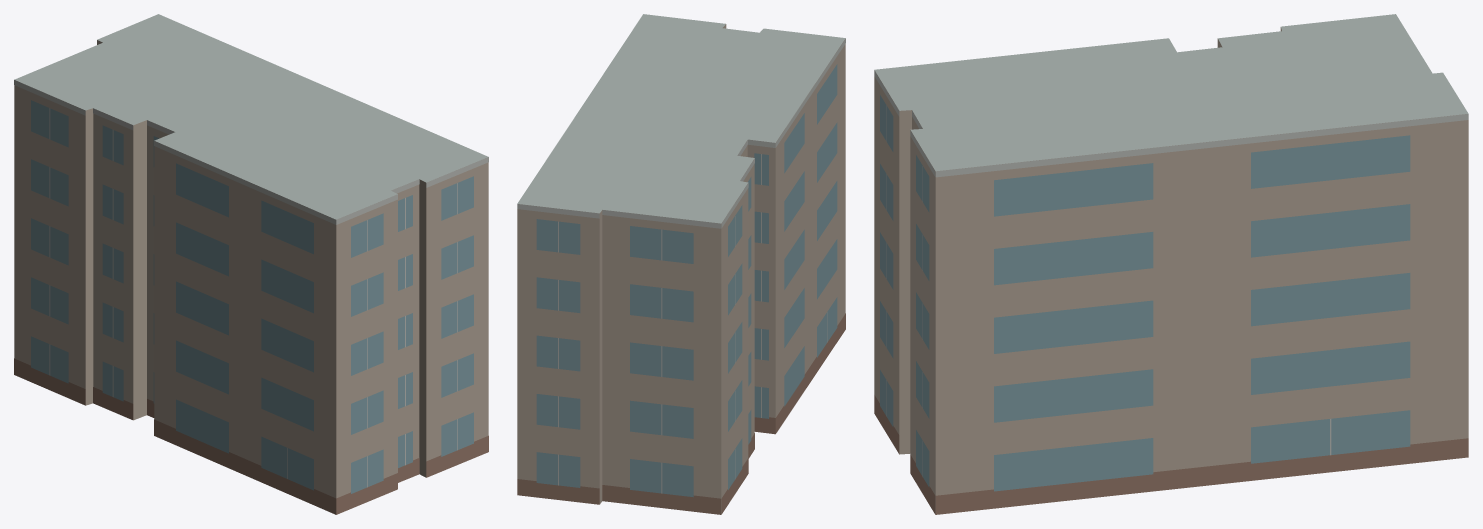
The model's file is survey-upis-32837103.glb.
The picture shows the model from 3 angles, left to right: view 1: azimuth 30°, elevation 25°; view 2: azimuth 150°, elevation 25°; view 3: azimuth 270°, elevation 25°; orthographic projection. The views are drawn at different scales.
Parts seen in each view (by area): view 1: survey-upis-32837103.tmp; view 2: survey-upis-32837103.tmp; view 3: survey-upis-32837103.tmp.
Part boxes in pixels (x1=…): survey-upis-32837103.tmp: x1=14, y1=14, x2=488, y2=514; survey-upis-32837103.tmp: x1=517, y1=14, x2=845, y2=514; survey-upis-32837103.tmp: x1=874, y1=14, x2=1468, y2=514.
Size of the model in its own units: 13.36 by 13.6 by 21.33.
